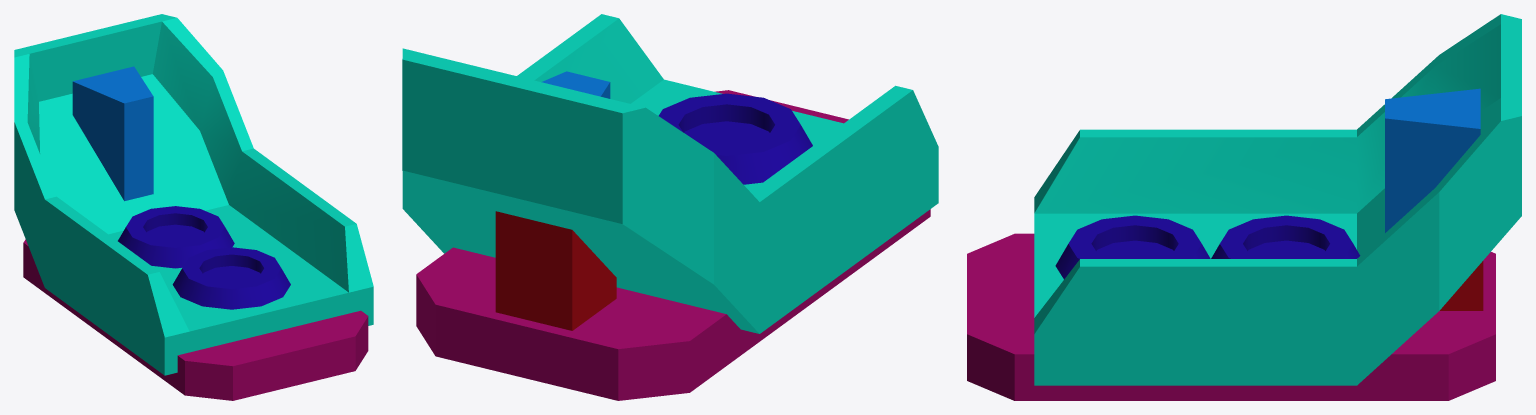
Rendered from capacitor_socket.glb.
The picture shows the model from 3 angles, left to right: view 1: azimuth 30°, elevation 25°; view 2: azimuth 150°, elevation 25°; view 3: azimuth 270°, elevation 25°; orthographic projection. The views are drawn at different scales.
Parts seen in each view (by area): view 1: Cube.004, Cube.007, Cube, Cylinder.002, Cylinder.003; view 2: Cube.004, Cube.007, Cube.005, Cylinder.002, Cube; view 3: Cube.004, Cube.007, Cube, Cylinder.002, Cylinder.003, Cube.005.
Boxes of the visible parts, <box> form: Cube.004: <box>14,14,373,375</box>; Cube.007: <box>23,239,368,400</box>; Cube: <box>72,66,153,201</box>; Cylinder.002: <box>172,247,290,309</box>; Cylinder.003: <box>118,206,234,268</box>; Cube.004: <box>402,14,938,333</box>; Cube.007: <box>416,90,930,400</box>; Cube.005: <box>495,211,616,330</box>; Cylinder.002: <box>658,93,812,184</box>; Cube: <box>541,71,610,98</box>; Cube.004: <box>1034,14,1521,385</box>; Cube.007: <box>967,233,1495,400</box>; Cube: <box>1385,88,1480,232</box>; Cylinder.002: <box>1055,215,1210,279</box>; Cylinder.003: <box>1211,215,1360,258</box>; Cube.005: <box>1439,261,1483,310</box>.
Bounding box in the file's own units: 0.911 × 0.846 × 1.56.
